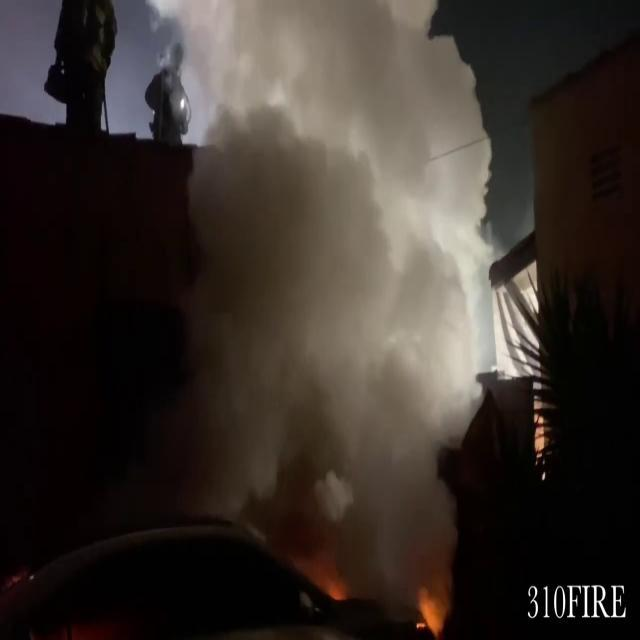Smoke: (136, 0, 494, 602)
